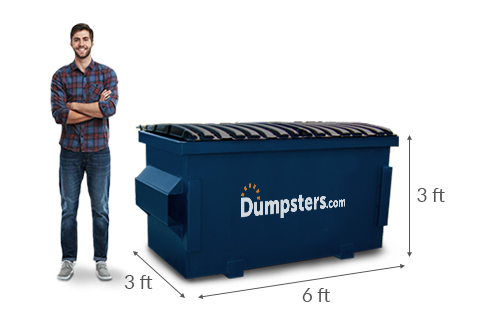Dumpster: (133, 120, 402, 280)
Person: (44, 21, 125, 282)
